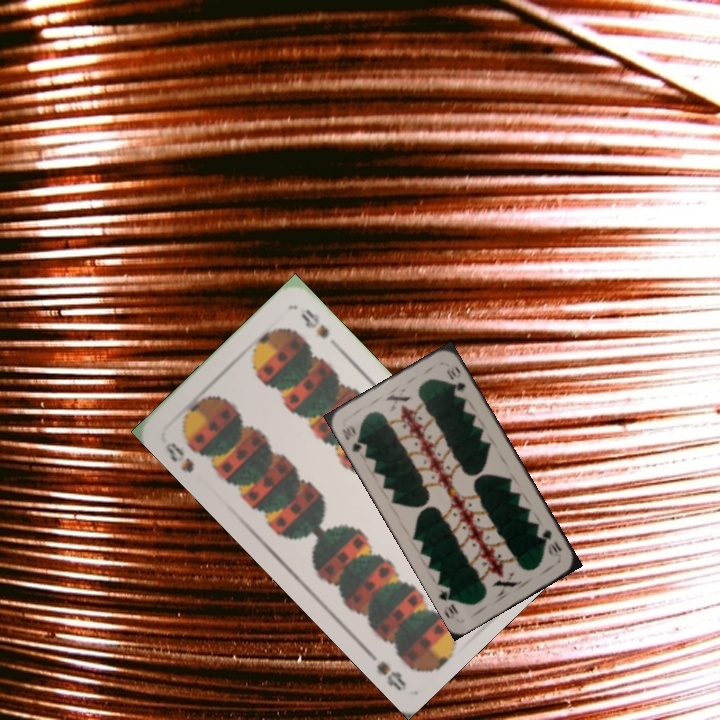G10: (338, 420, 369, 455), (538, 525, 564, 559)
S8: (161, 438, 197, 475)
